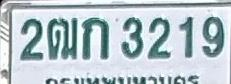1: (178, 16, 193, 58)
2: (20, 18, 42, 59), (148, 17, 170, 58)
3: (121, 16, 143, 58)
9: (202, 15, 224, 57)
A01: (81, 17, 109, 59)
A18: (46, 17, 78, 59)
